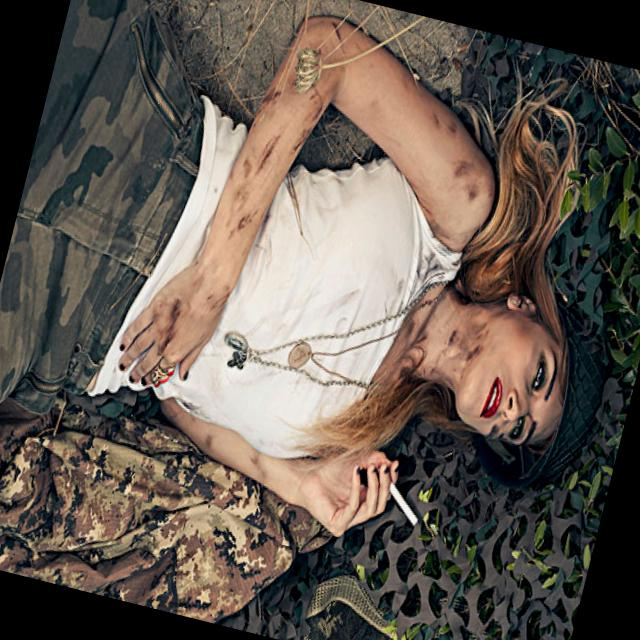cigarette: (369, 474, 428, 535)
